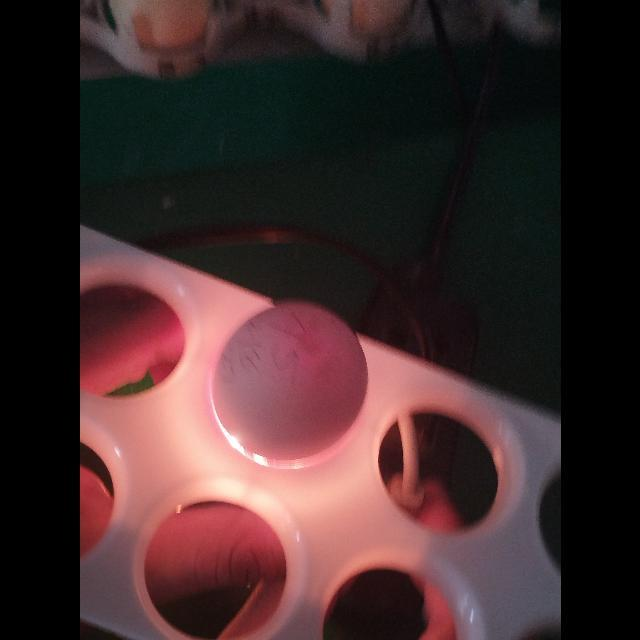Fertile: (208, 298, 370, 460)
